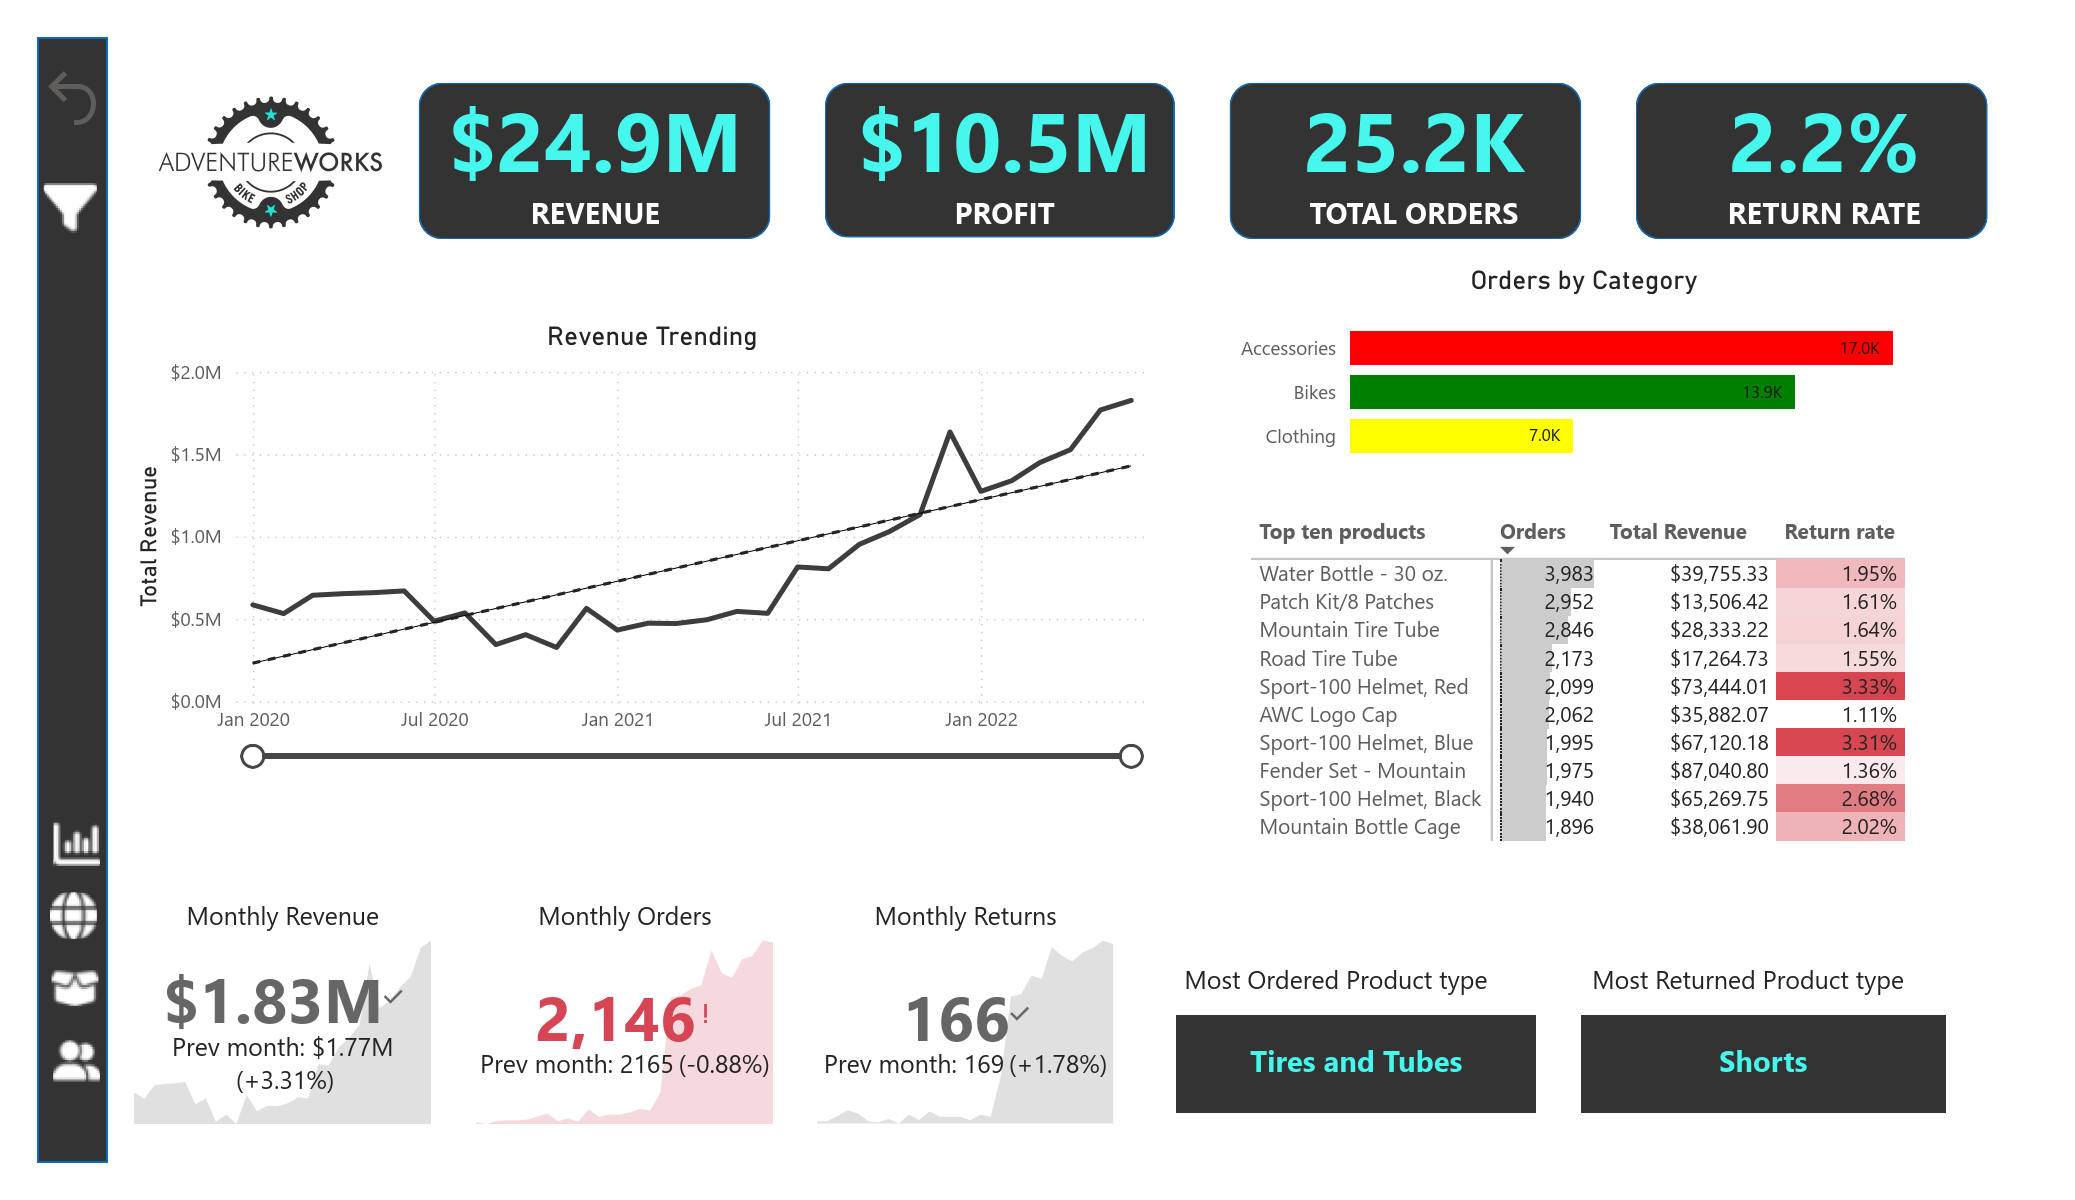

What the dashboard file says about the page in this screenshot:
{"tool":"powerbi","page":{"name":"Exec Dashboard","canvas":[1280,720],"ordinal":0},"visuals":[{"type":"card","fields":{"Values":["Table.Total Revenue"]},"box":[221.4,6.5,272.1,138],"z":0,"group":"g2"},{"type":"image","title":"AW Logo","box":[57.5,14.7,184.6,129.6],"z":0},{"type":"group","id":"g1","title":"KPI Background","box":[244.8,28.6,1003.9,100.3],"z":0,"group":"g3"},{"type":"shape","box":[244.8,28.6,225.3,100.3],"z":0,"group":"g1"},{"type":"actionButton","box":[6.1,497.5,66.2,37.5],"z":0,"group":"g4"},{"type":"shape","title":"Left Nav Background","box":[0,0,45,720],"z":1000},{"type":"group","id":"g2","title":"KPI Values","box":[221.4,6.5,1058.6,138],"z":1000,"group":"g3"},{"type":"card","fields":{"Values":["Table.Total profit"]},"box":[483.6,6.5,272.1,138],"z":1000,"group":"g2"},{"type":"shape","box":[504.8,28.6,224,99],"z":1000,"group":"g1"},{"type":"actionButton","box":[3.7,542.9,66,37.9],"z":1000,"group":"g4"},{"type":"group","id":"g3","title":"KPIs","box":[221.4,6.5,1058.6,138],"z":2000},{"type":"card","fields":{"Values":["Table.Total orders"]},"box":[745.7,6.5,272.1,138],"z":2000,"group":"g2"},{"type":"shape","box":[763.5,28.6,225.3,100.3],"z":2000,"group":"g1"},{"type":"actionButton","box":[4.9,589.4,55,37.9],"z":2000,"group":"g4"},{"type":"card","fields":{"Values":["Table.Return rate"]},"box":[1007.9,6.5,272.1,138],"z":3000,"group":"g2"},{"type":"shape","box":[1023.5,28.6,225.3,100.3],"z":3000,"group":"g1"},{"type":"kpi","title":"Monthly Orders","fields":{"TrendLine":["Calendar Lookup.Start of Month"],"Indicator":["Table.Total orders"],"Goal":["Table.Previous month orders"]},"box":[275.7,551.4,200,148.6],"z":3000},{"type":"actionButton","box":[6.1,635.9,66,37.9],"z":3000,"group":"g4"},{"type":"kpi","title":"Monthly Revenue","fields":{"Indicator":["Table.Total Revenue"],"TrendLine":["Calendar Lookup.Start of Month"],"Goal":["Table.Previous month revenue"]},"box":[57.1,551.4,200,148.6],"z":4000},{"type":"kpi","title":"Monthly Returns","fields":{"TrendLine":["Calendar Lookup.Start of Month"],"Indicator":["Table.Total returns transactions"],"Goal":["Table.Previous month returns"]},"box":[494.3,551.4,200,148.6],"z":5000},{"type":"clusteredBarChart","title":"Orders by Category","fields":{"Category":["Product Categories Lookup.CategoryName"],"Y":["Table.Total orders"]},"box":[760.4,144.7,459.8,138.3],"z":6000},{"type":"pivotTable","fields":{"Rows":["Product Lookup.ProductName"],"Values":["Table.Total orders","Table.Total Revenue","Table.Return rate"]},"box":[771.7,302.2,471,226.7],"z":7000},{"type":"card","fields":{"Values":["Min(Product Subcategories Lookup.SubcategoryName)"]},"box":[728.6,626.2,230.8,62],"z":8000},{"type":"textbox","box":[728.6,587.2,259.7,36.1],"z":9000},{"type":"card","fields":{"Values":["Min(Product Subcategories Lookup.SubcategoryName)"]},"box":[988.3,626.2,232.3,62],"z":10000},{"type":"textbox","box":[989.7,587.2,259.7,36.1],"z":11000},{"type":"actionButton","box":[0,0,45.2,75.8],"z":12000},{"type":"group","id":"g4","title":"Navigation buttons","box":[3.7,497.5,68.7,176.3],"z":13000},{"type":"actionButton","box":[0,87.5,45,42.5],"z":14000},{"type":"lineChart","title":"Revenue Trending","fields":{"Y":["Table.Total Revenue"],"Category":["Calendar Lookup.Year","Calendar Lookup.Start of Quarter","Calendar Lookup.Start of Month","Calendar Lookup.Start of Week","Calendar Lookup.Date"]},"box":[57.5,181.2,671.2,290],"z":16000}]}

Visuals, with their boxes on the page's 1280x720 design canvas (x1, y1, x2, y2). These are canvas units, not pixel positions in the 2075x1200 screenshot, which may show the page scaled, cropped or inside an application window:
card - Table.Total Revenue: bbox=(221, 6, 494, 144)
"AW Logo" image: bbox=(58, 15, 242, 144)
"KPI Background" group: bbox=(245, 29, 1249, 129)
shape: bbox=(245, 29, 470, 129)
actionButton: bbox=(6, 498, 72, 535)
"Left Nav Background" shape: bbox=(0, 0, 45, 720)
"KPI Values" group: bbox=(221, 6, 1280, 144)
card - Table.Total profit: bbox=(484, 6, 756, 144)
shape: bbox=(505, 29, 729, 128)
actionButton: bbox=(4, 543, 70, 581)
"KPIs" group: bbox=(221, 6, 1280, 144)
card - Table.Total orders: bbox=(746, 6, 1018, 144)
shape: bbox=(764, 29, 989, 129)
actionButton: bbox=(5, 589, 60, 627)
card - Table.Return rate: bbox=(1008, 6, 1280, 144)
shape: bbox=(1024, 29, 1249, 129)
"Monthly Orders" kpi: bbox=(276, 551, 476, 700)
actionButton: bbox=(6, 636, 72, 674)
"Monthly Revenue" kpi: bbox=(57, 551, 257, 700)
"Monthly Returns" kpi: bbox=(494, 551, 694, 700)
"Orders by Category" clusteredBarChart: bbox=(760, 145, 1220, 283)
pivotTable - Product Lookup.ProductName x Table.Total orders: bbox=(772, 302, 1243, 529)
card - Min(Product Subcategories Lookup.SubcategoryName): bbox=(729, 626, 959, 688)
textbox: bbox=(729, 587, 988, 623)
card - Min(Product Subcategories Lookup.SubcategoryName): bbox=(988, 626, 1221, 688)
textbox: bbox=(990, 587, 1249, 623)
actionButton: bbox=(0, 0, 45, 76)
"Navigation buttons" group: bbox=(4, 498, 72, 674)
actionButton: bbox=(0, 88, 45, 130)
"Revenue Trending" lineChart: bbox=(58, 181, 729, 471)
